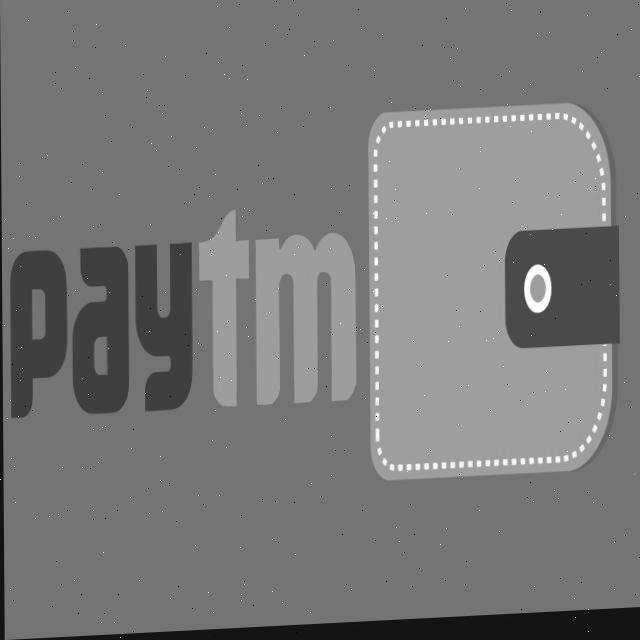fully_visible: (6, 197, 372, 466)
